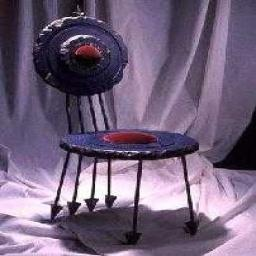Chair: (32, 10, 198, 244)
